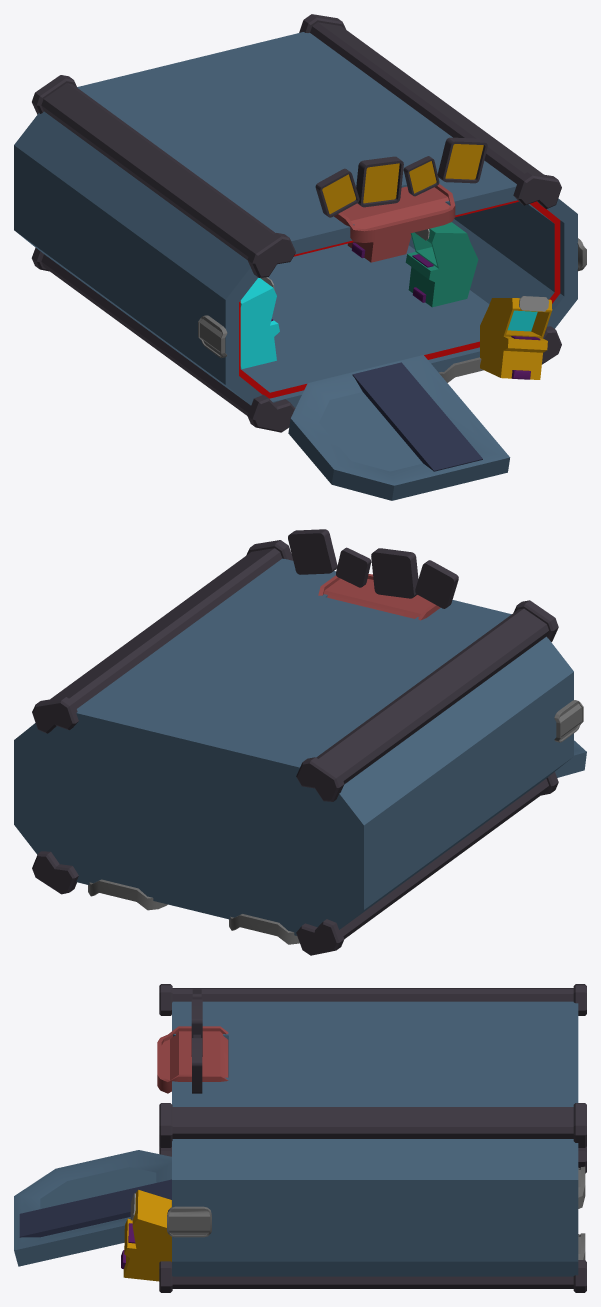
Rendered from House8.fbx.
The picture shows the model from 3 angles, top to bottom: view 1: azimuth 30°, elevation 25°; view 2: azimuth 150°, elevation 25°; view 3: azimuth 270°, elevation 25°; orthographic projection. The views are drawn at different scales.
Parts seen in each view (by area): view 1: House_R_8; view 2: House_R_8; view 3: House_R_8.
Boxes of the visible parts, <box> form: House_R_8: <box>14,14,586,500</box>; House_R_8: <box>14,529,586,955</box>; House_R_8: <box>14,984,586,1292</box>.
Size of the model in its own units: 1130 by 754 by 1595.
